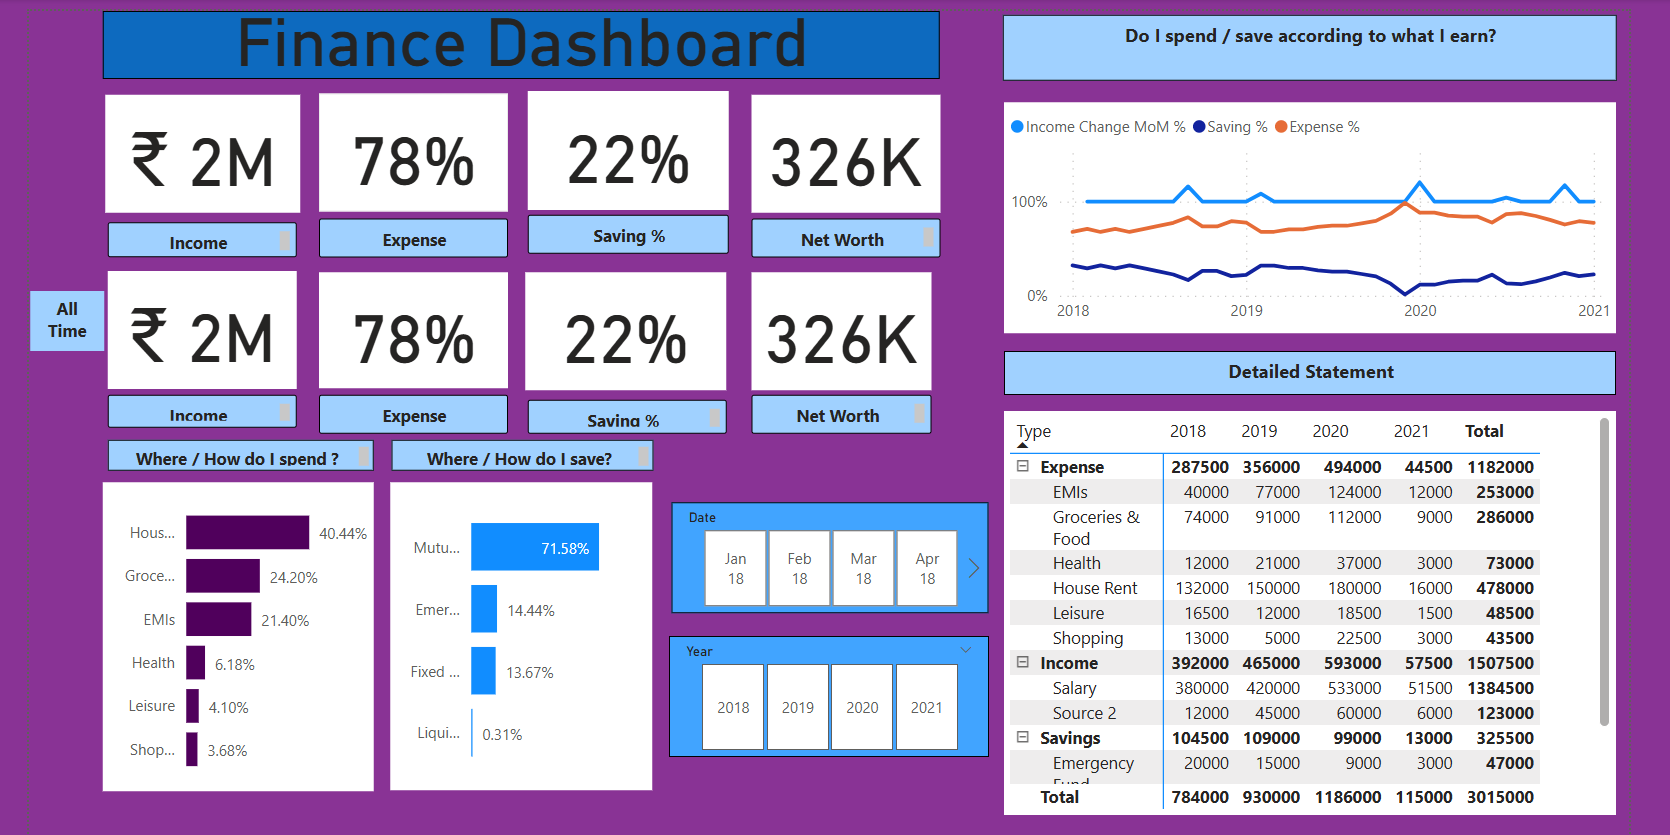

What the dashboard file says about the page in this screenshot:
{"tool":"powerbi","page":{"name":"Page 1","canvas":[1280,720],"ordinal":0},"visuals":[{"type":"card","fields":{"Values":["Key measures.Total Income"]},"box":[61.1,66.7,155.6,94.4],"z":0},{"type":"card","fields":{"Values":["Key measures.Expense %"]},"box":[232.2,65.6,151.1,94.4],"z":1000},{"type":"card","fields":{"Values":["Key measures.Saving %"]},"box":[396.7,208.9,161.1,94.4],"z":2000},{"type":"card","fields":{"Values":["Key measures.Total Saving"]},"box":[577.8,208.9,144.4,94.4],"z":3000},{"type":"textbox","box":[63.3,343.3,212.2,24.4],"z":4000},{"type":"textbox","box":[232.2,306.7,151.1,31.1],"z":5000},{"type":"textbox","box":[398.9,311.1,158.9,26.7],"z":6000},{"type":"textbox","box":[1.1,224.4,58.9,47.8],"z":7000},{"type":"textbox","box":[577.8,306.7,144.4,31.1],"z":8000},{"type":"lineChart","fields":{"Category":["FinData.Date"],"Y":["Key measures.Income Change MoM %","Key measures.Saving %","Key measures.Expense %"]},"box":[780,73.3,490,184.4],"z":9000},{"type":"card","fields":{"Values":["Key measures.Total Income"]},"box":[63.3,207.8,151.1,94.4],"z":10000},{"type":"card","fields":{"Values":["Key measures.Expense %"]},"box":[232.2,208.9,151.1,93.3],"z":11000},{"type":"card","fields":{"Values":["Key measures.Saving %"]},"box":[398.9,64.4,161.1,94.4],"z":12000},{"type":"card","fields":{"Values":["Key measures.Total Saving"]},"box":[577.8,66.7,151.1,94.4],"z":13000},{"type":"textbox","box":[63.3,306.7,151.1,26.7],"z":14000},{"type":"textbox","box":[232.2,165.6,151.1,31.1],"z":15000},{"type":"textbox","box":[398.9,163.3,161.1,31.1],"z":16000},{"type":"textbox","box":[577.8,165.6,151.1,31.1],"z":17000},{"type":"textbox","box":[63.3,168.9,151.1,27.8],"z":18000},{"type":"card","fields":{"Values":["Key measures.Title"]},"box":[58.9,0,670,54.4],"z":19000},{"type":"clusteredBarChart","fields":{"Y":["Key measures.Total Expense"],"Category":["FinData.Component"]},"box":[58.9,376.7,216.7,247.8],"z":20000},{"type":"clusteredBarChart","fields":{"Y":["Key measures.Total Saving"],"Category":["FinData.Component"]},"box":[288.9,376.7,210,246.7],"z":21000},{"type":"textbox","box":[1237.8,690,42.2,30],"z":22000},{"type":"textbox","box":[290,343.3,210,24.4],"z":23000},{"type":"textbox","box":[778.9,3.3,491.1,52.2],"z":24000},{"type":"pivotTable","fields":{"Rows":["FinData.Type","FinData.Component"],"Columns":["FinData.Year"],"Values":["Sum(FinData.Value)"]},"box":[780,320,490,323.3],"z":25000},{"type":"textbox","box":[780,272.2,490,34.4],"z":26000},{"type":"slicer","fields":{"Values":["FinData.Year"]},"box":[512.2,500,255.6,96.7],"z":27000},{"type":"slicer","fields":{"Values":["FinData.Date"]},"box":[514.4,393.3,253.3,88.9],"z":28000}]}

Visuals, with their boxes on the page's 1280x720 design canvas (x1, y1, x2, y2). These are canvas units, not pixel positions in the 1670x835 screenshot, which may show the page scaled, cropped or inside an application window:
card - Key measures.Total Income: Rect(61, 67, 217, 161)
card - Key measures.Expense %: Rect(232, 66, 383, 160)
card - Key measures.Saving %: Rect(397, 209, 558, 303)
card - Key measures.Total Saving: Rect(578, 209, 722, 303)
textbox: Rect(63, 343, 276, 368)
textbox: Rect(232, 307, 383, 338)
textbox: Rect(399, 311, 558, 338)
textbox: Rect(1, 224, 60, 272)
textbox: Rect(578, 307, 722, 338)
lineChart - FinData.Date x Key measures.Income Change MoM %: Rect(780, 73, 1270, 258)
card - Key measures.Total Income: Rect(63, 208, 214, 302)
card - Key measures.Expense %: Rect(232, 209, 383, 302)
card - Key measures.Saving %: Rect(399, 64, 560, 159)
card - Key measures.Total Saving: Rect(578, 67, 729, 161)
textbox: Rect(63, 307, 214, 333)
textbox: Rect(232, 166, 383, 197)
textbox: Rect(399, 163, 560, 194)
textbox: Rect(578, 166, 729, 197)
textbox: Rect(63, 169, 214, 197)
card - Key measures.Title: Rect(59, 0, 729, 54)
clusteredBarChart - Key measures.Total Expense x FinData.Component: Rect(59, 377, 276, 624)
clusteredBarChart - Key measures.Total Saving x FinData.Component: Rect(289, 377, 499, 623)
textbox: Rect(1238, 690, 1280, 720)
textbox: Rect(290, 343, 500, 368)
textbox: Rect(779, 3, 1270, 56)
pivotTable - FinData.Type x FinData.Component: Rect(780, 320, 1270, 643)
textbox: Rect(780, 272, 1270, 307)
slicer - FinData.Year: Rect(512, 500, 768, 597)
slicer - FinData.Date: Rect(514, 393, 768, 482)
